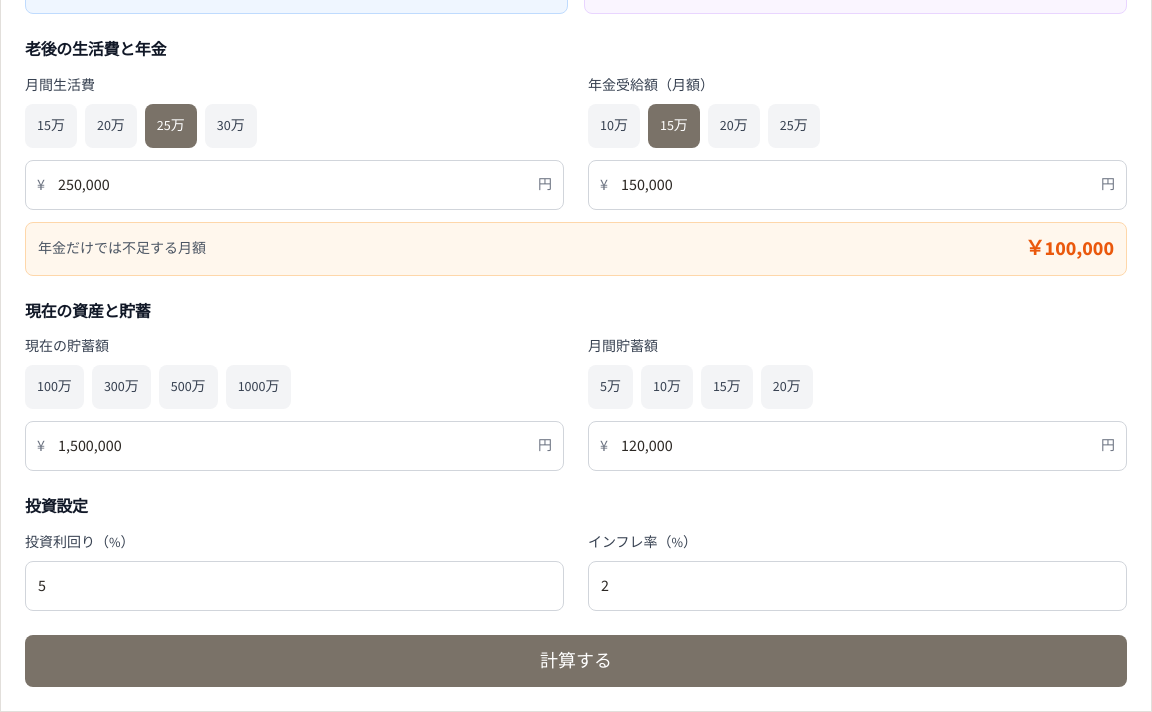
Test: RetirementCalculator › 結果表示 › 資金不足時に推奨事項が表示される
(page scrolled)
What coordinates should you click on to do the following:
click the button "計算する"
I would click on:
 (576, 661)
Its box is x1=25 y1=635 x2=1127 y2=687.
(page scrolled)
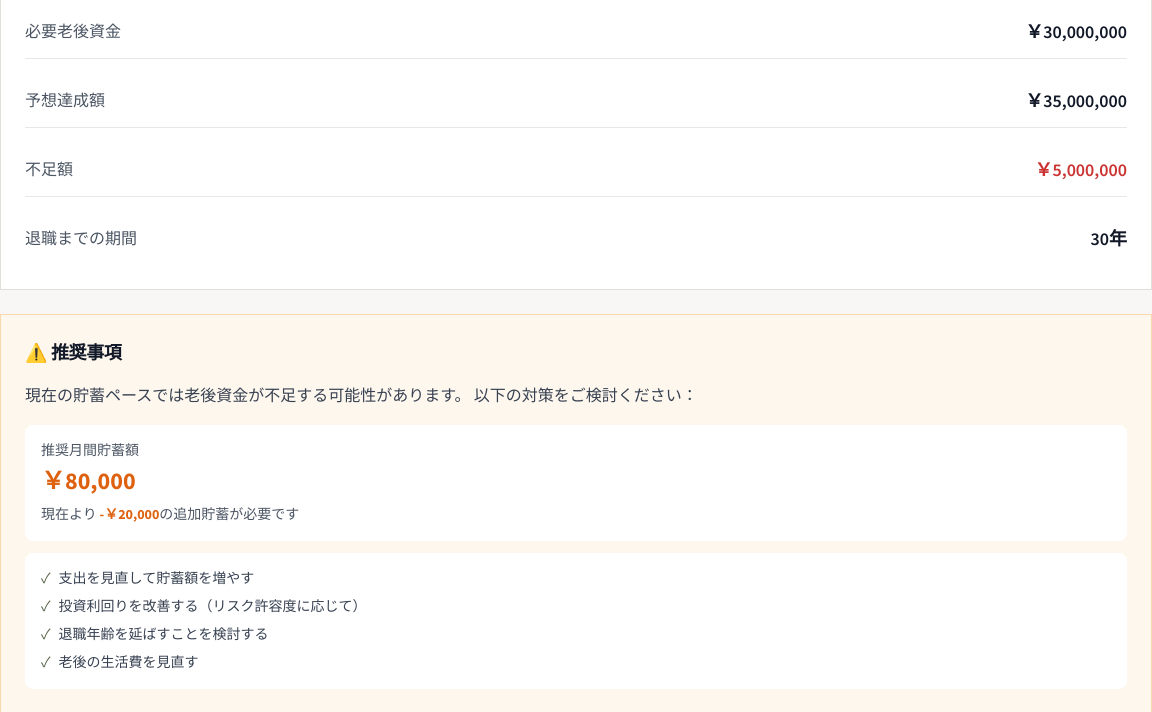
Check: the heading "⚠️ 推奨事項" is shown, box x1=25 y1=342 x2=122 y2=364
